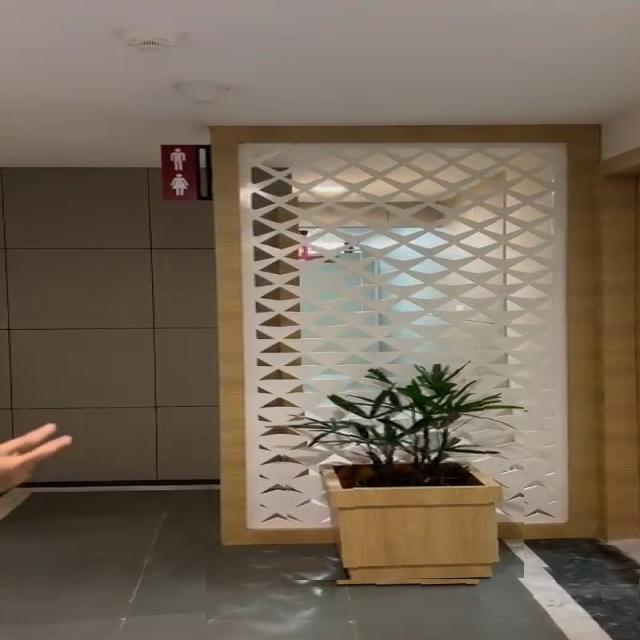floor: (219, 560, 640, 640), (17, 492, 206, 640)
furniture: (278, 364, 524, 580)
